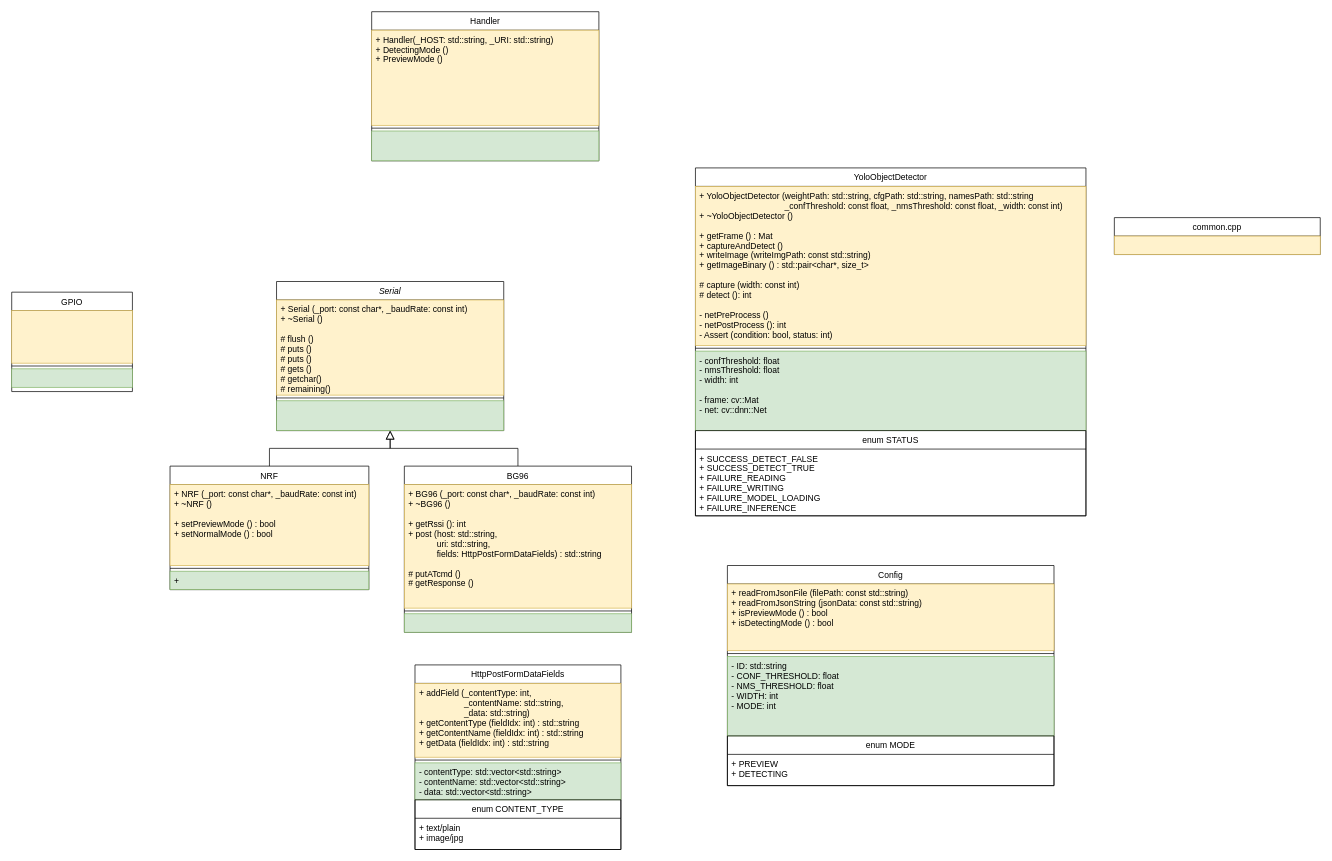
The diagram is 1332 pixels wide and 861 high, and some of its shapes have lost their labels. Here are the shapes that lost their labels. From the top down, the centre of each, then its label:
At point (1217, 245): "+ getISOCurrentTimestamp() : std::string".
At point (71, 336): "+ GPIO (_rpiOffPin: const int) ~ GPIO () + shutdownRpi ()".
At point (71, 377): "- rpiOffPin: int".
At point (390, 415): "- fd: int - baudRate: int".
At point (518, 622): "members".
